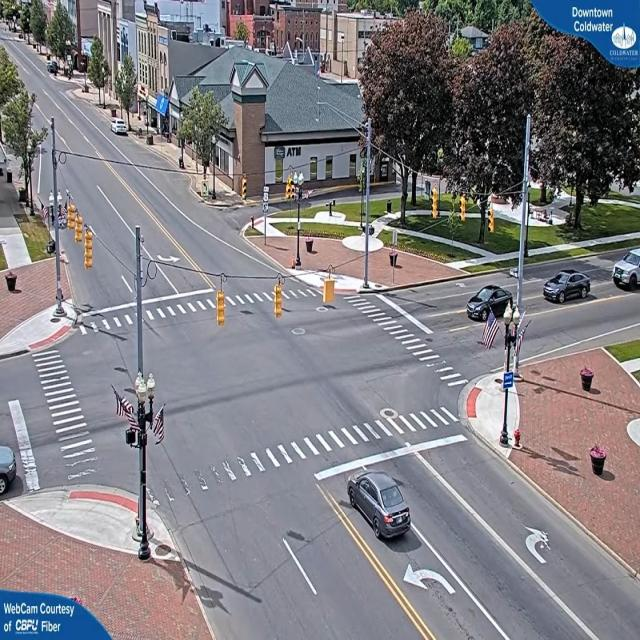car: (351, 472, 413, 540), (544, 268, 594, 304), (612, 249, 640, 291), (1, 435, 19, 499), (112, 118, 130, 136)
